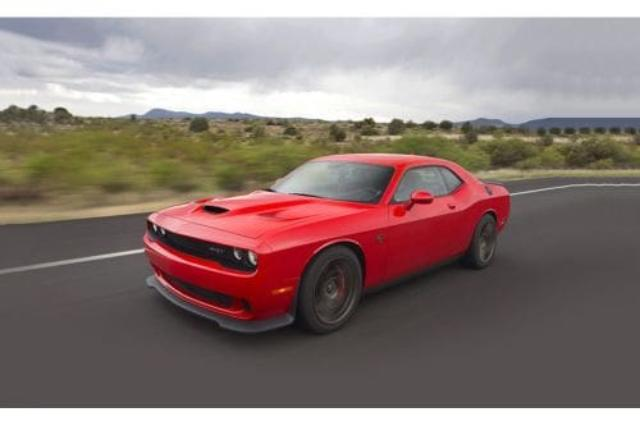dodge: (141, 153, 511, 336)
